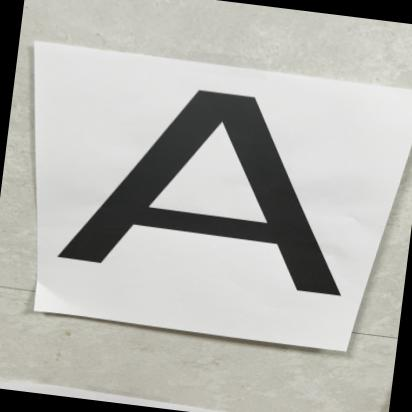seat: (24, 57, 400, 327)
